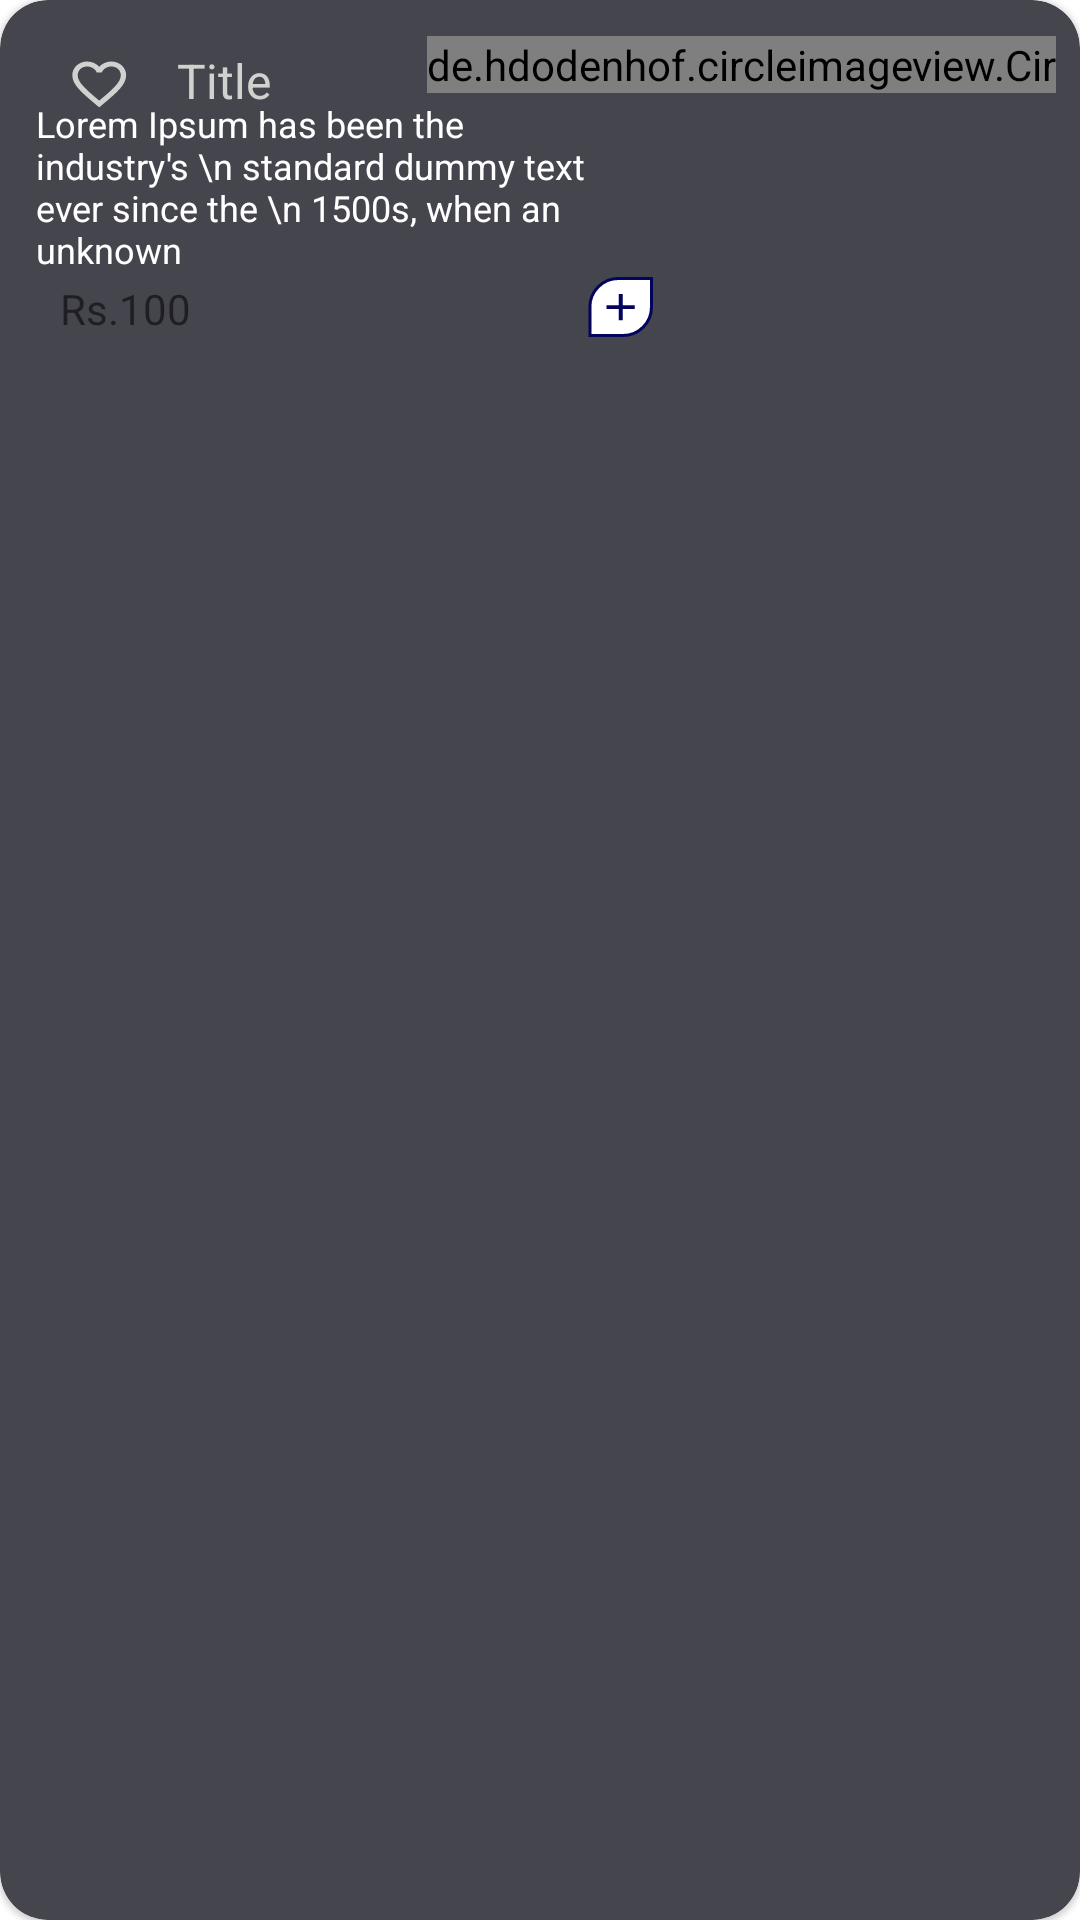

Icons on this 1080 x 1920 Android screen, each with the point to tap as (x=x, y=y):
heart: (x=99, y=84)
